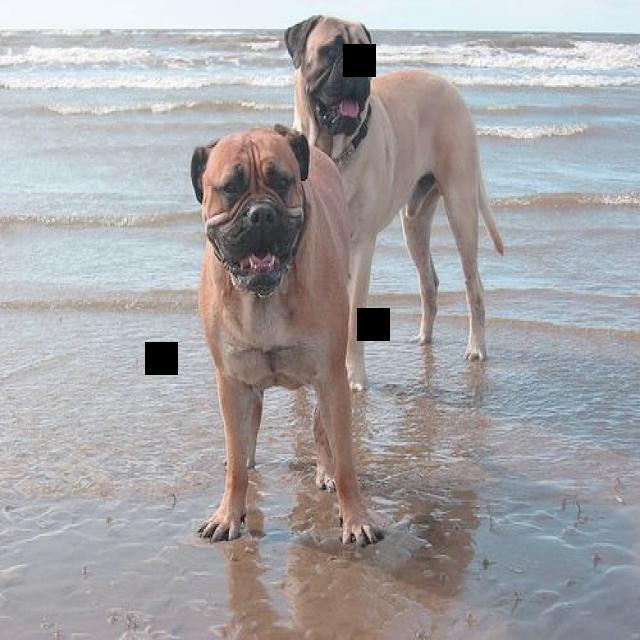adult_dog: (183, 123, 392, 549), (283, 11, 506, 390)
